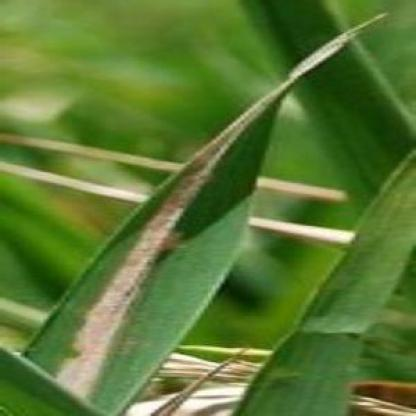Blight: (51, 70, 303, 406)
